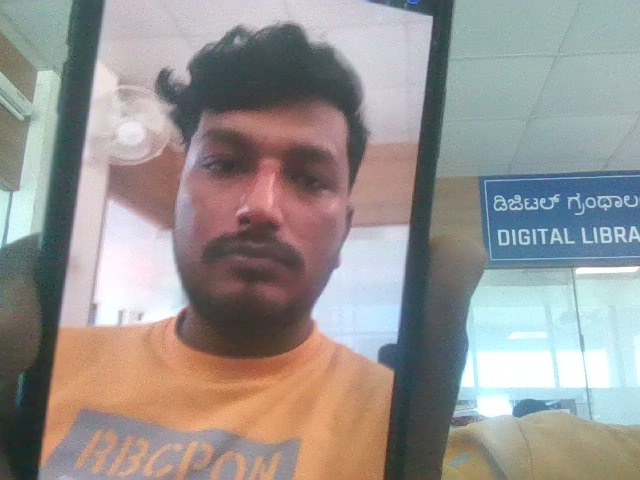fake: (142, 8, 380, 346)
